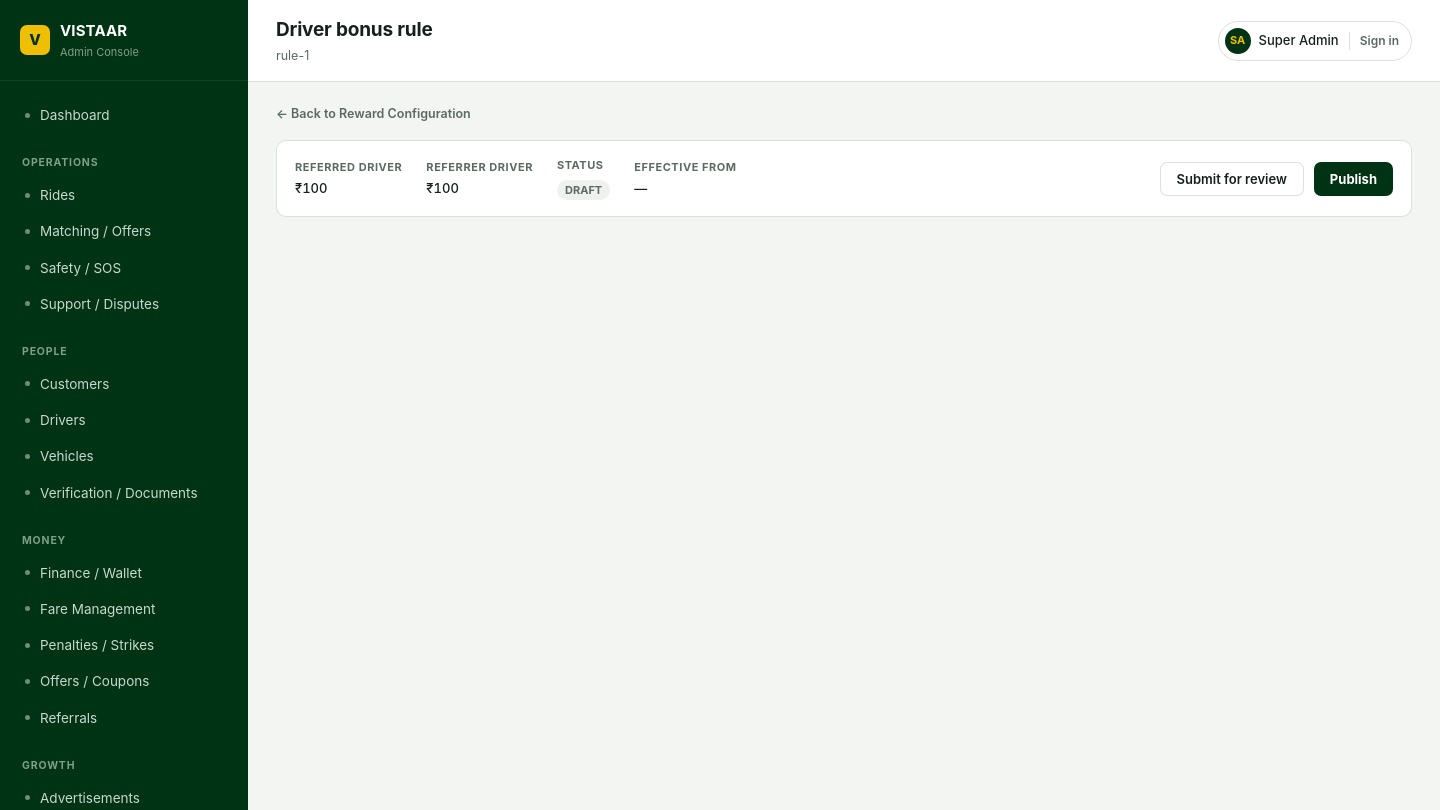
Test: DriverBonusRuleDetailPage › publishes with no effective_from when left blank
The width and height of the screenshot is (1440, 810).
Click the button "Publish" at (1353, 178), box [1314,162,1393,196]
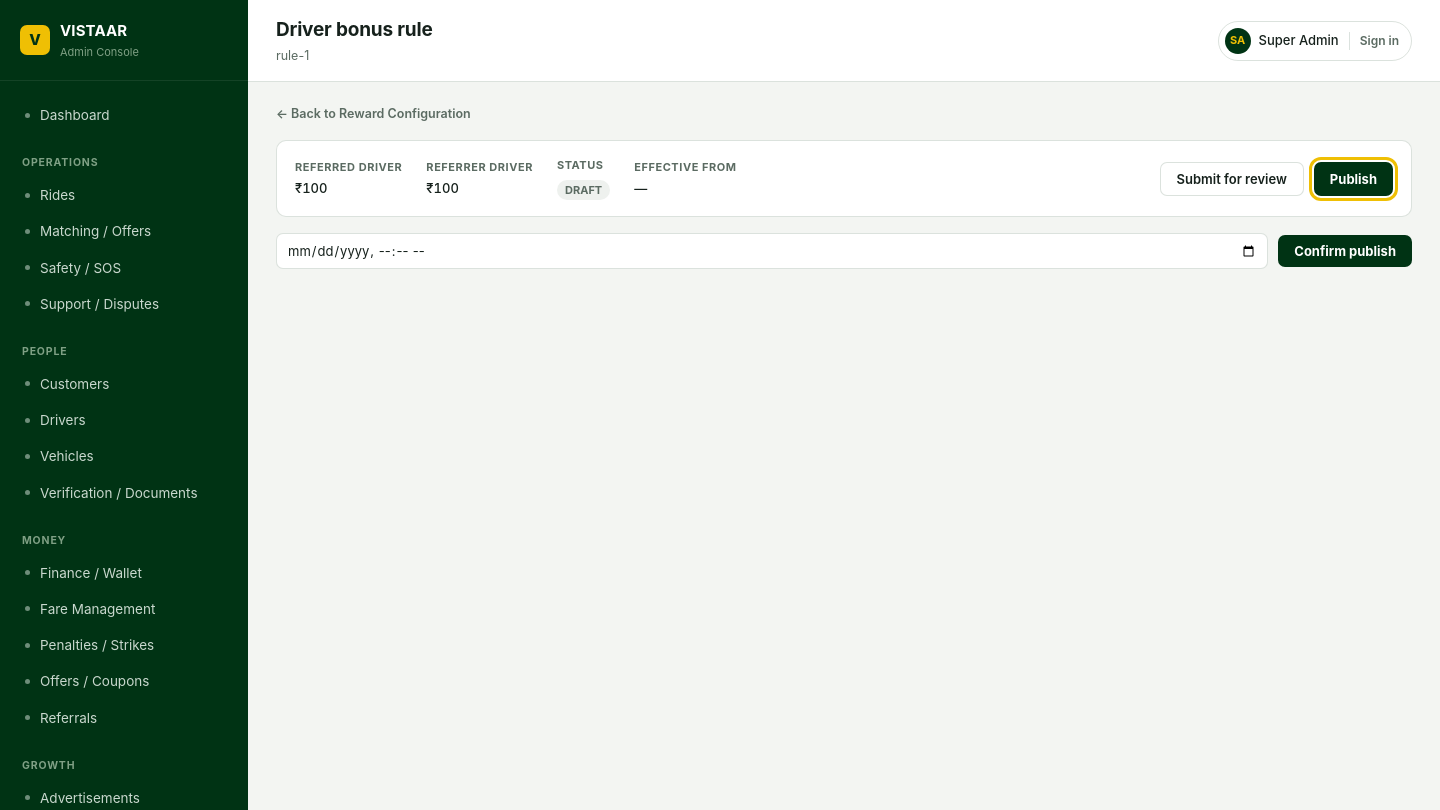
Click the button "Confirm publish" at (1345, 251), box [1278,235,1412,267]
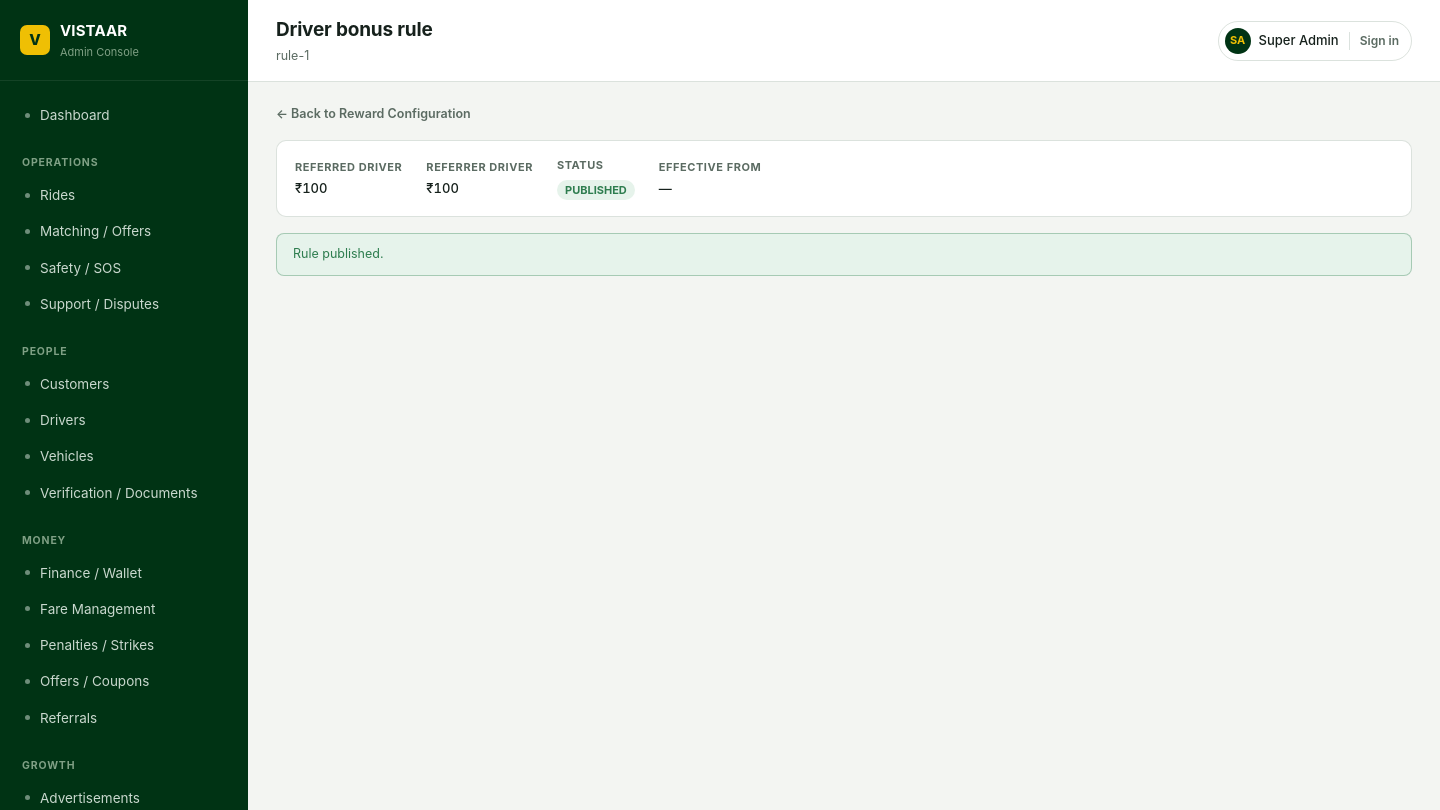
Expected: the text "Rule published." is shown, [276,233,1412,276]
